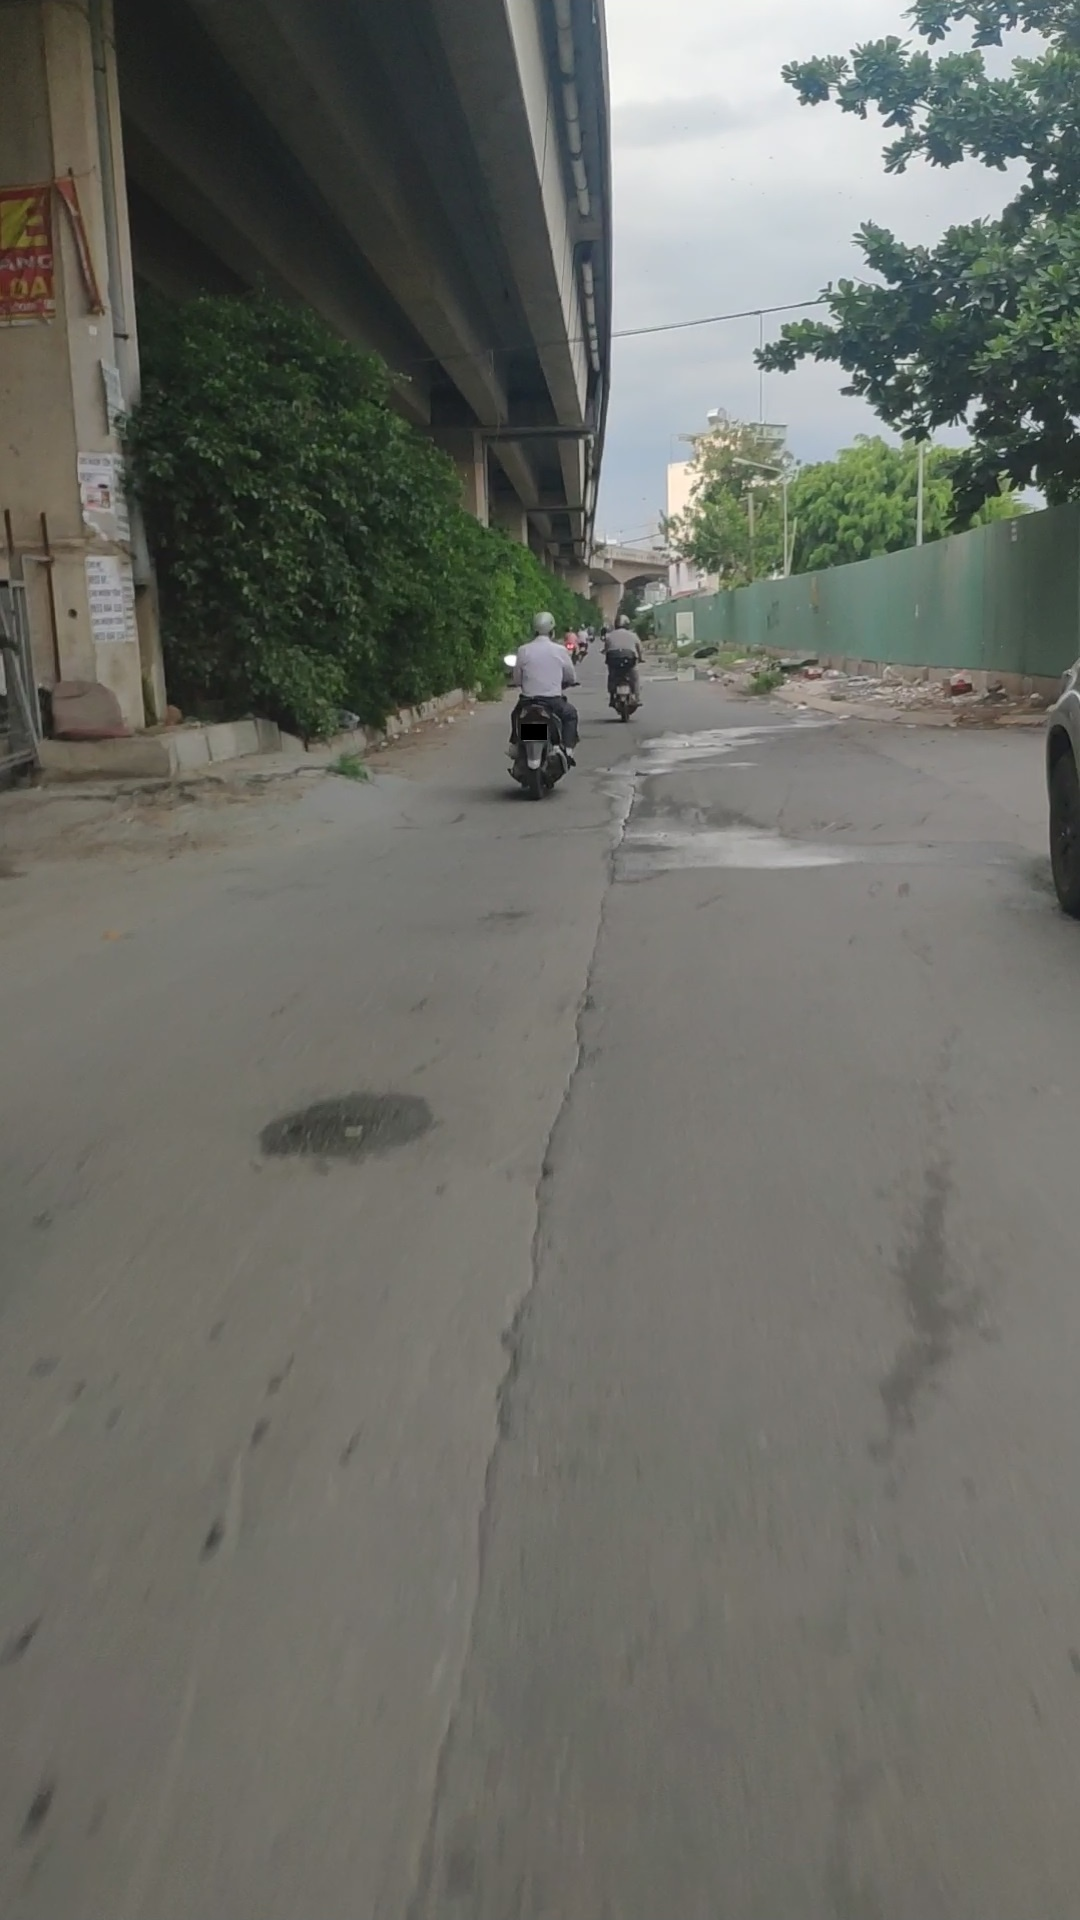hole: (634, 767, 650, 779)
